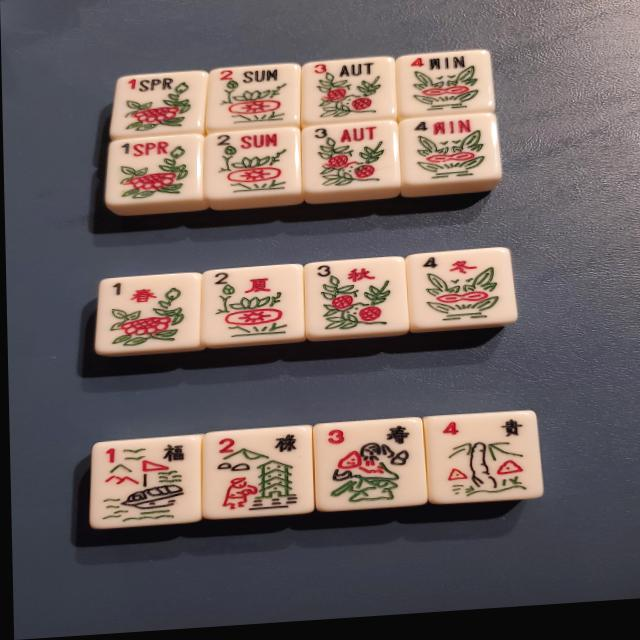1S: (100, 272, 201, 348)
2S: (199, 266, 305, 345)
3S: (305, 258, 406, 336)
4S: (410, 249, 509, 328)
